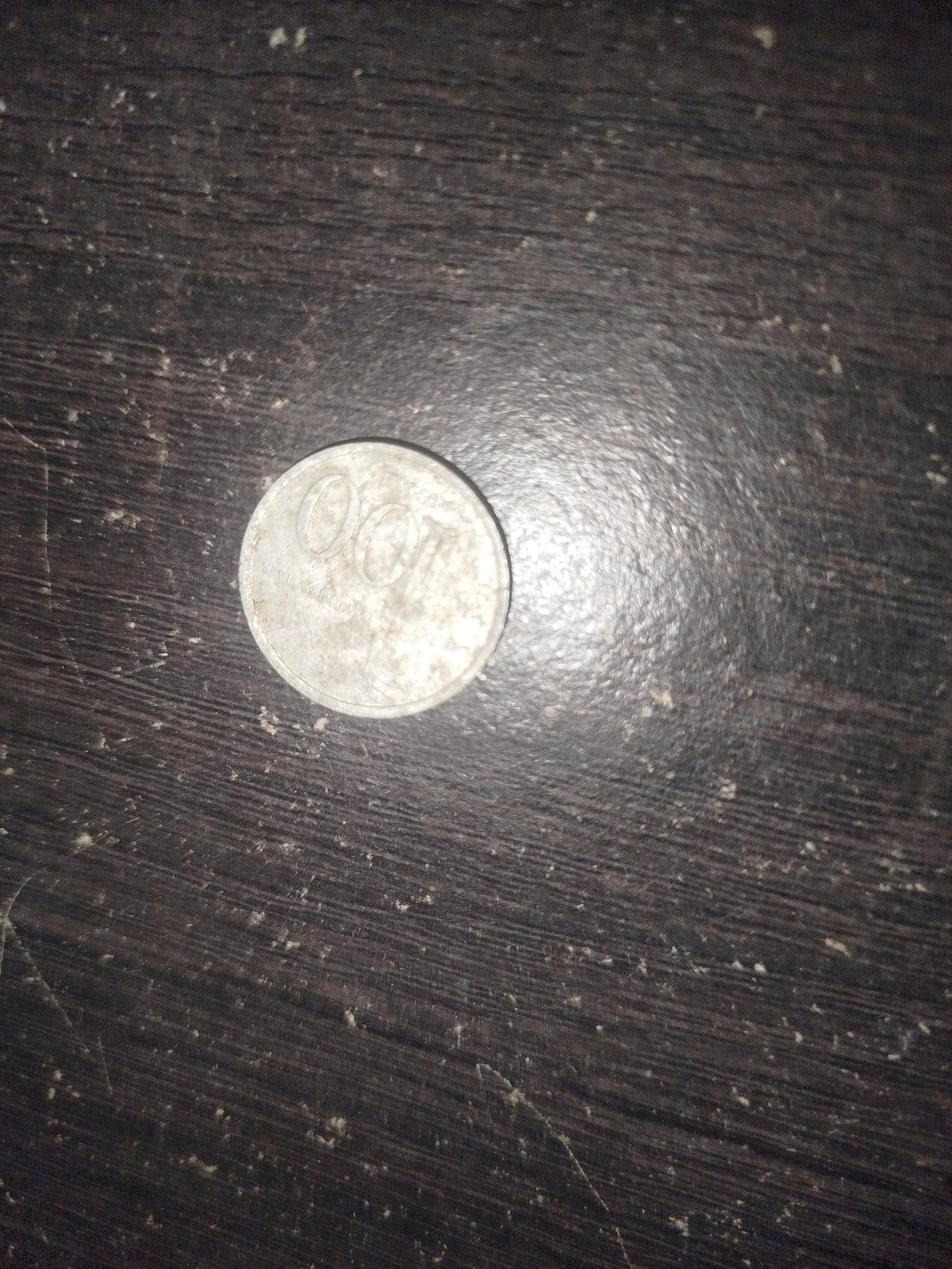coin_100_e1999: (222, 416, 537, 762)
